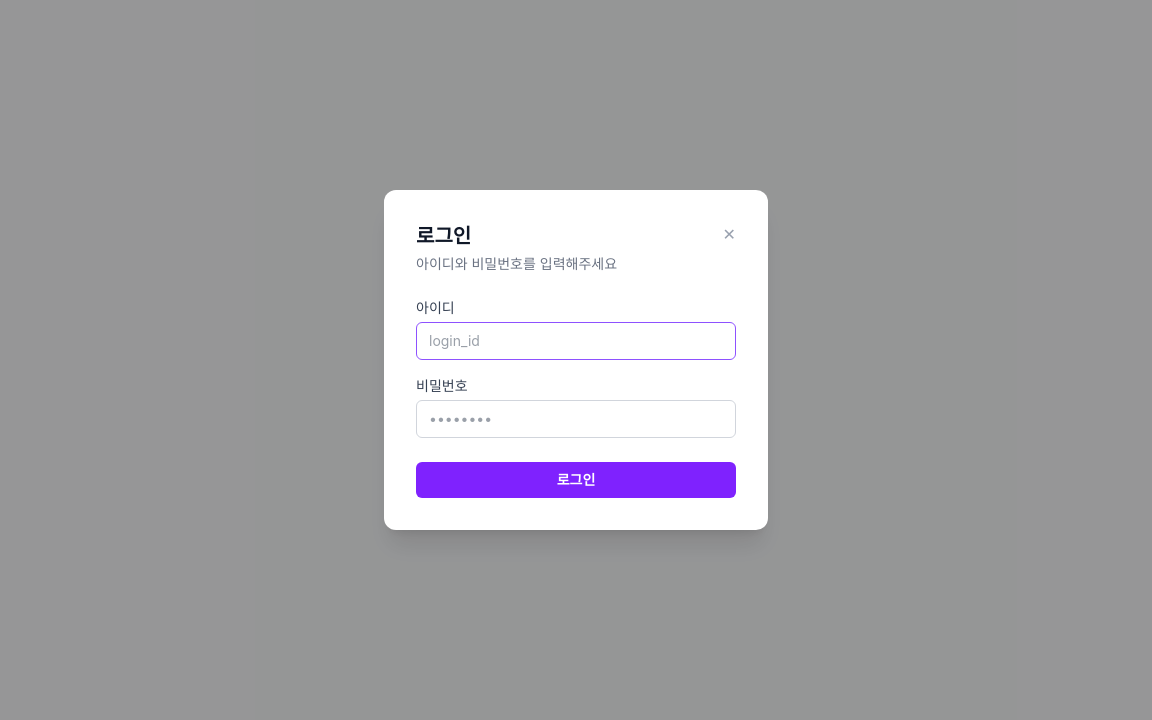
Test: LoginModal › 로그인에 실패하면 에러 메시지를 보여주고 모달을 닫지 않는다
This screenshot has width=1152, height=720.
Type "tester1234" into the field with placeholder "login_id" at point(576, 341), box [416,322,736,360]
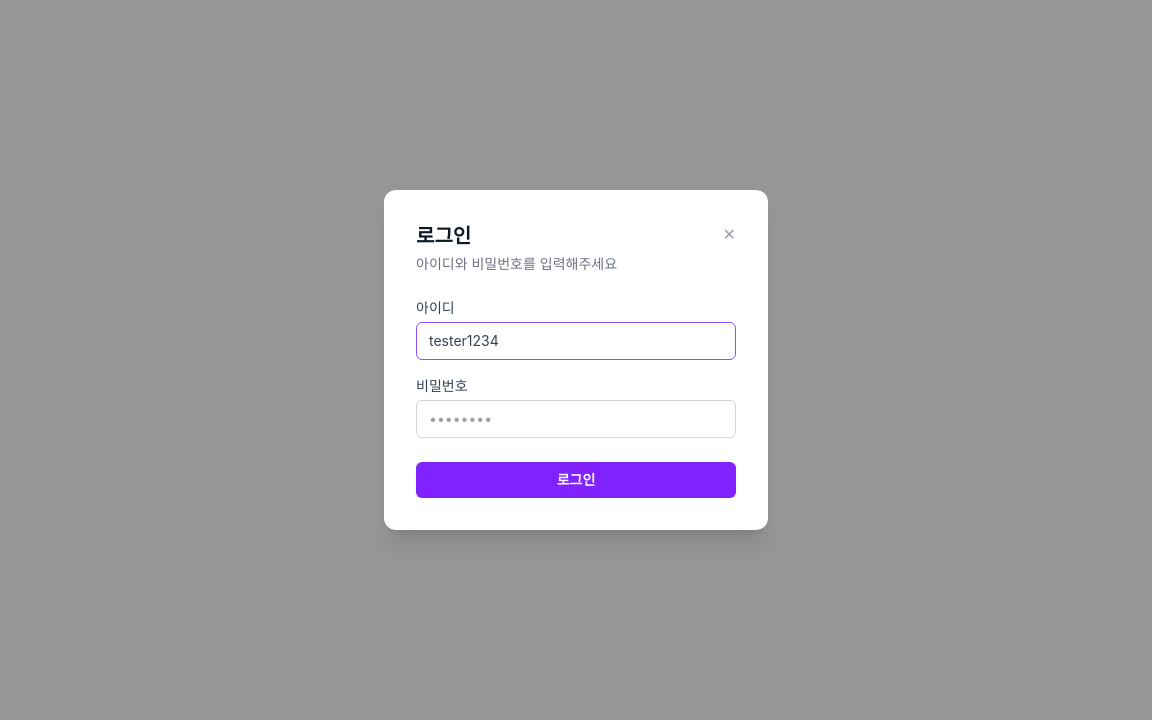
Type "wrong-password" into the password field with placeholder "••••••••" at point(576, 419), box [416,400,736,438]
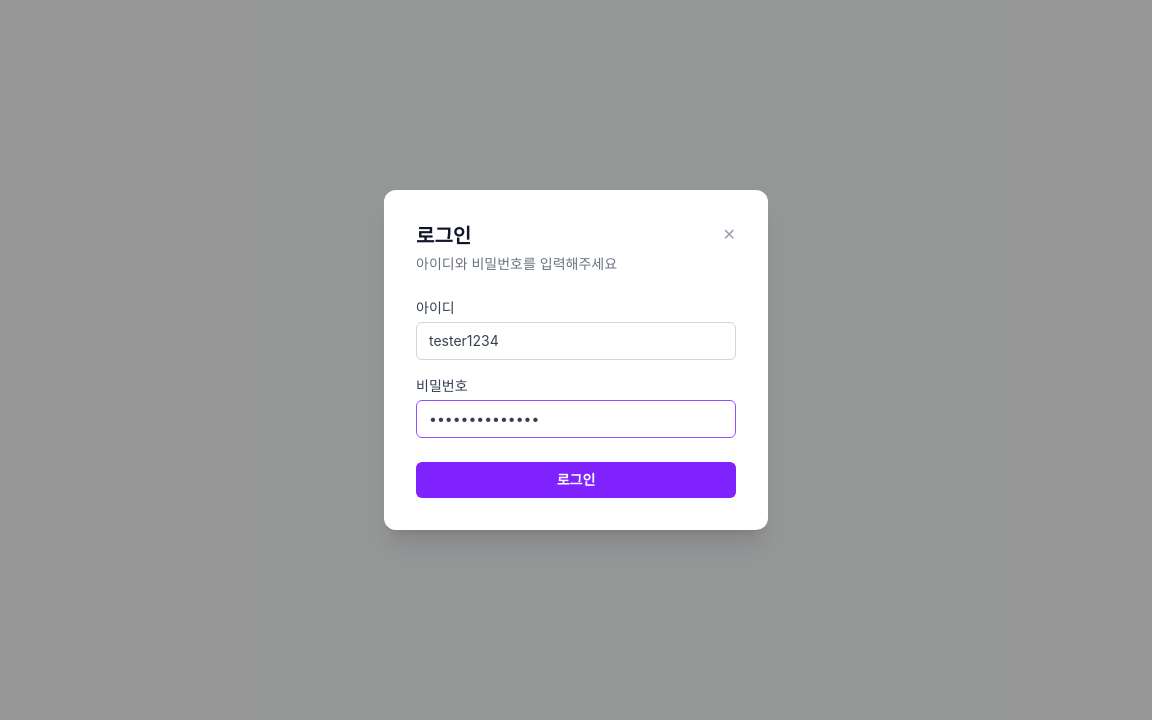
Click the button "로그인" at point(576, 480), box [416,462,736,498]
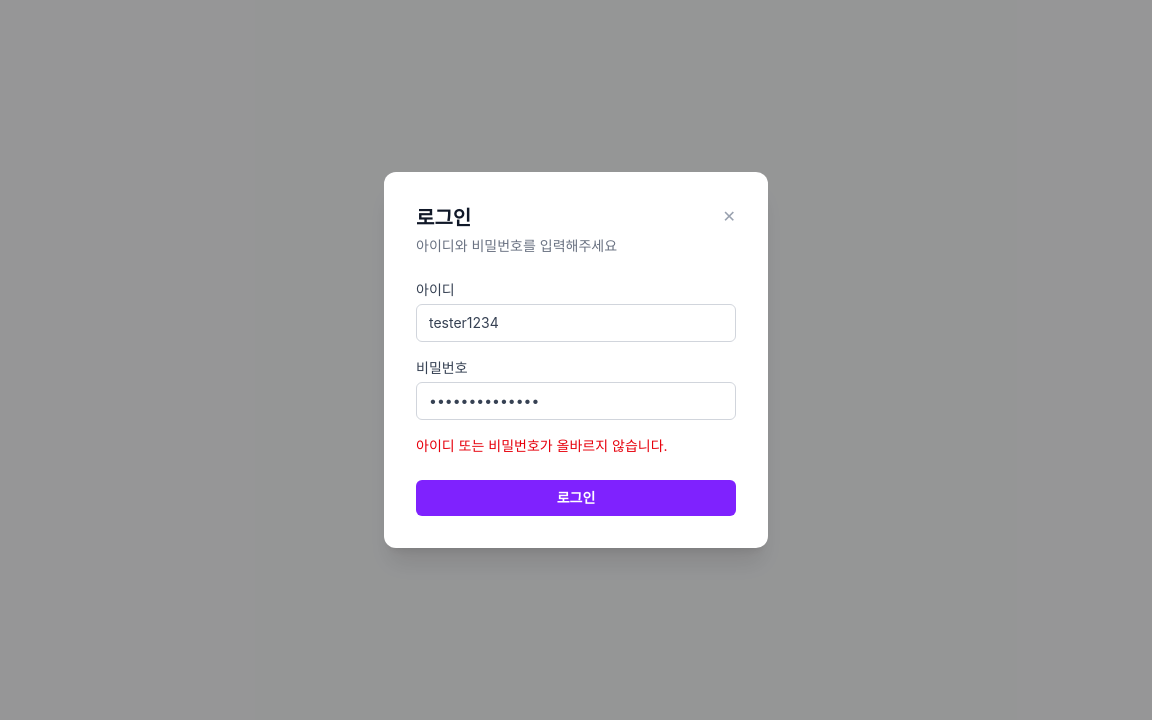
Check: the text "아이디 또는 비밀번호가 올바르지 않습니다." is shown, box [416,437,668,454]
